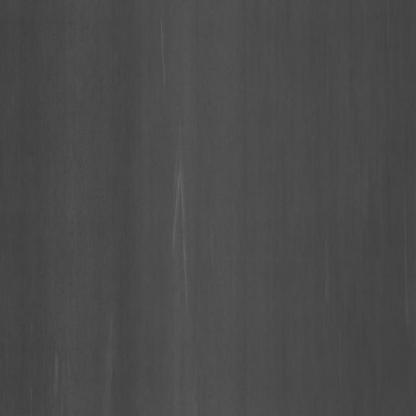silk_spot: (156, 139, 197, 300)
